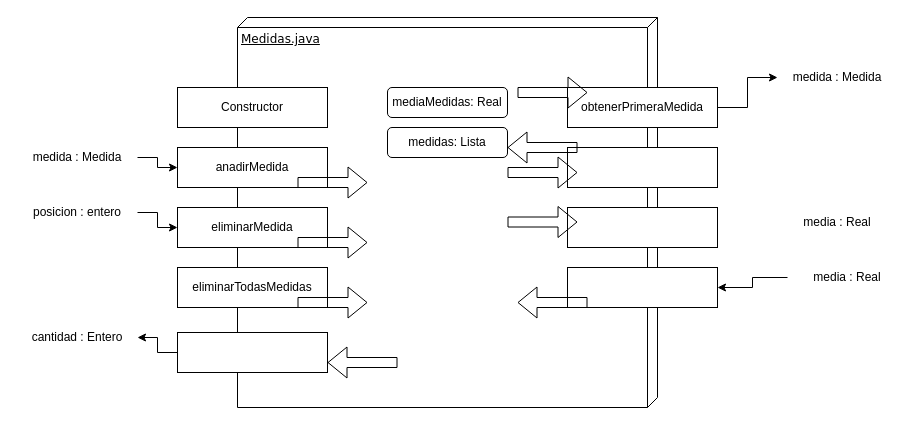
Some shapes in this 924 by 425 pixel diagram are drawn without their labels. Here are the shapes that lost their labels. From the top down, the centre of each, then its label:
At pixel 642 167: "calcularMediaMedidas".
At pixel 642 227: "getMediaMedidas".
At pixel 642 287: "setMediaMedidas".
At pixel 252 352: "obtenerCantidadMedidas".
